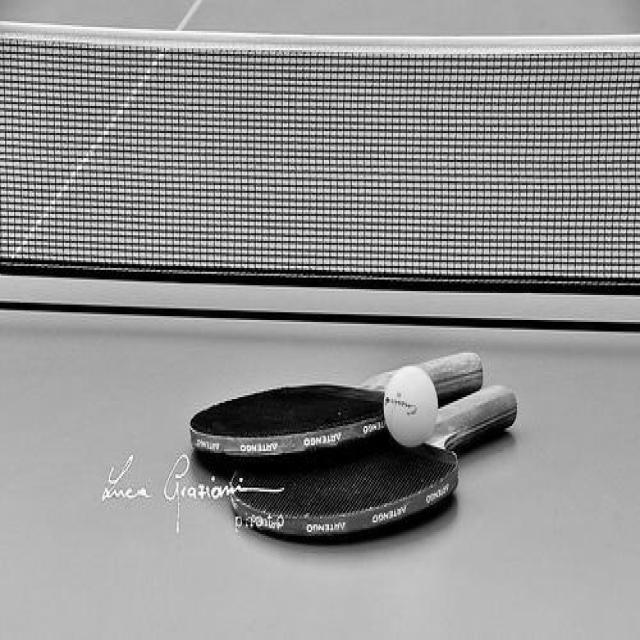ping-pong-ball: (382, 362, 439, 453)
